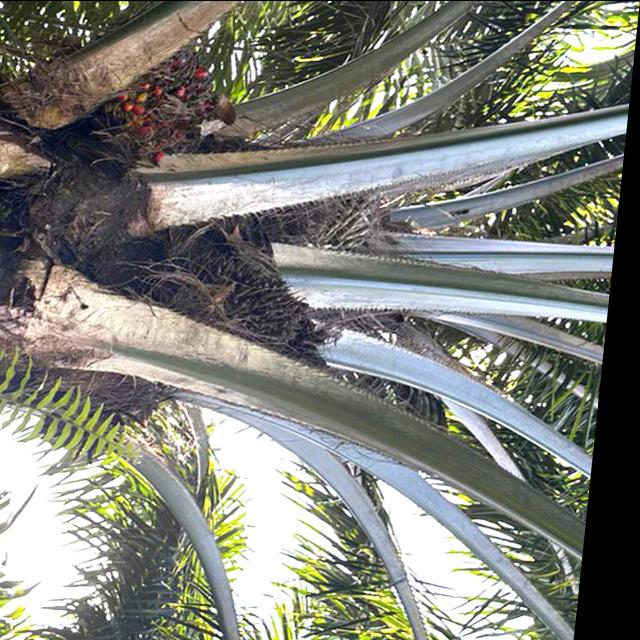almost: (152, 233, 347, 374), (83, 44, 243, 168)
